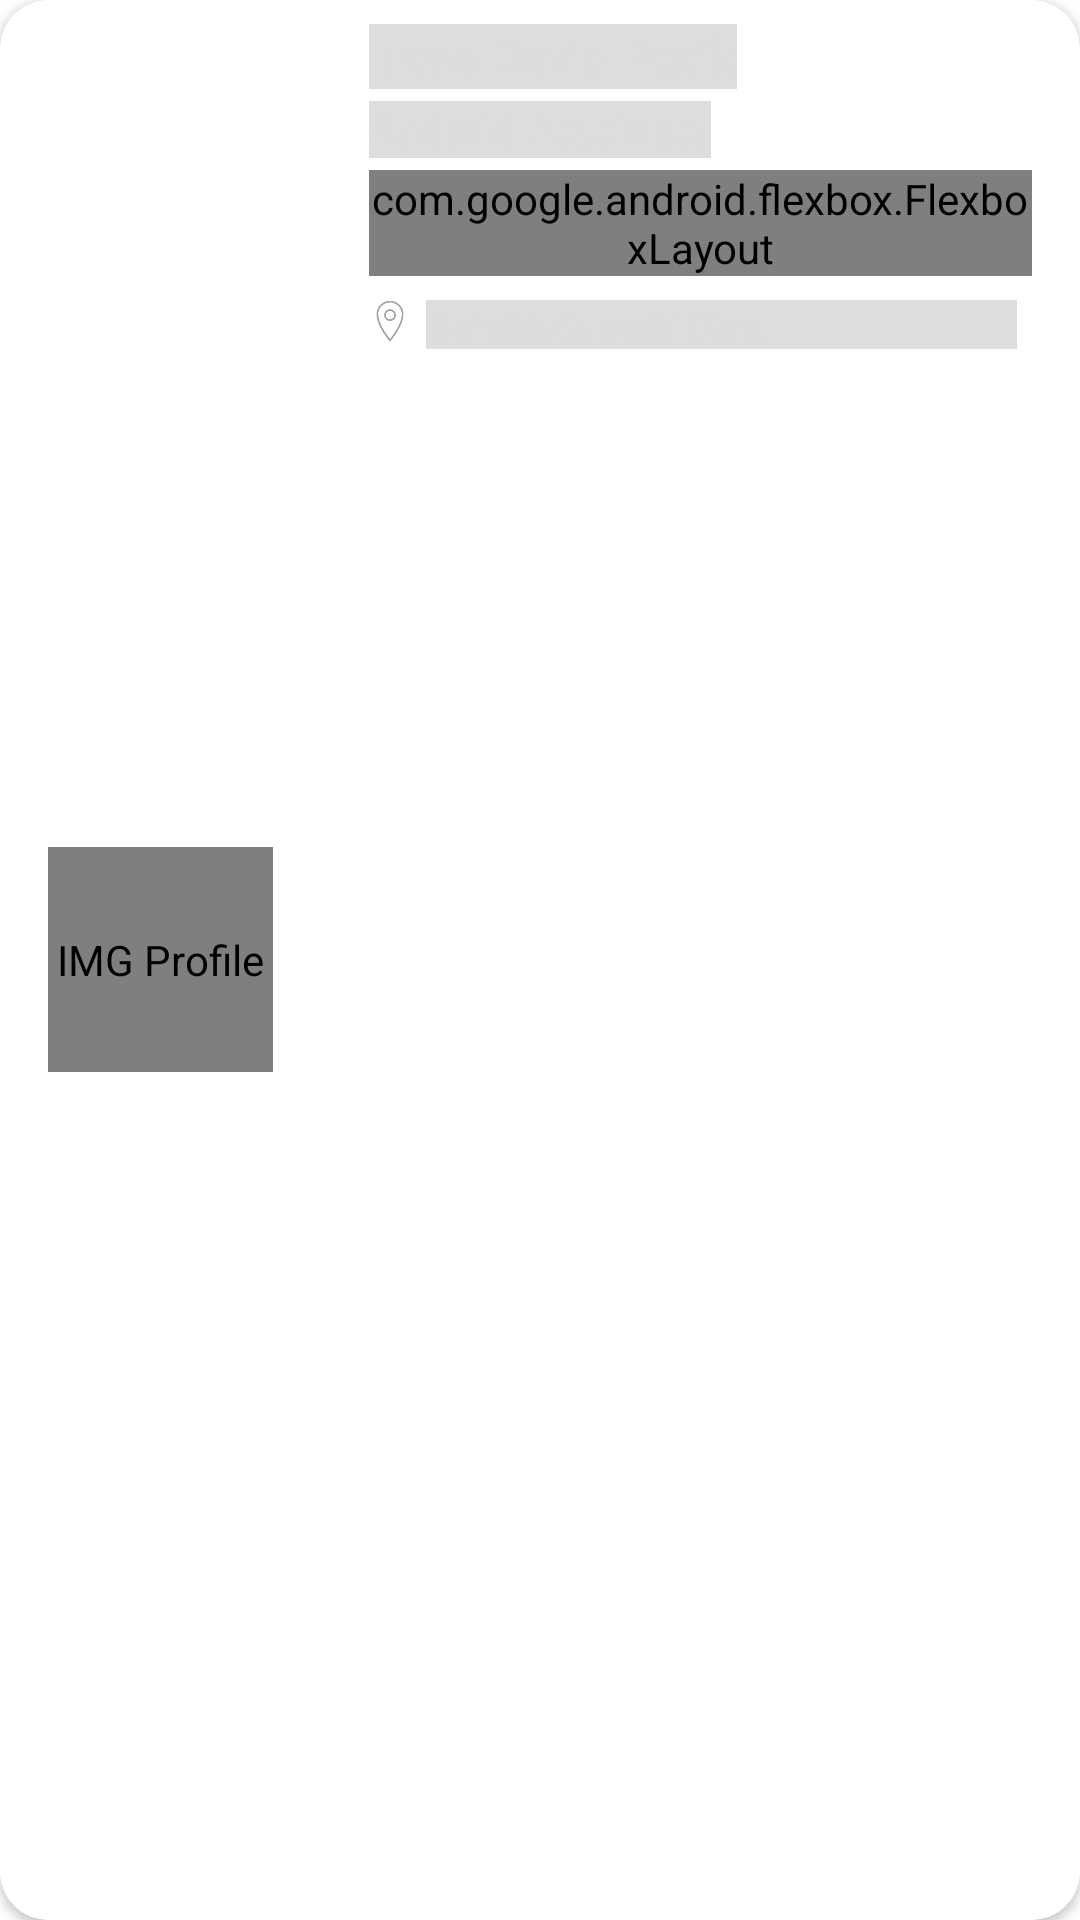

Screen size 1080x1920. Icon name, then its box in pixels as box=[x1, y1, x2, y2]:
place maker: box=[376, 301, 404, 341]
